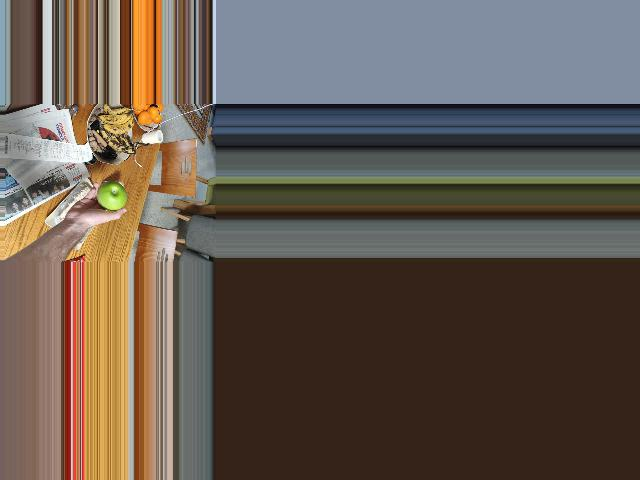apple: (93, 179, 132, 213)
